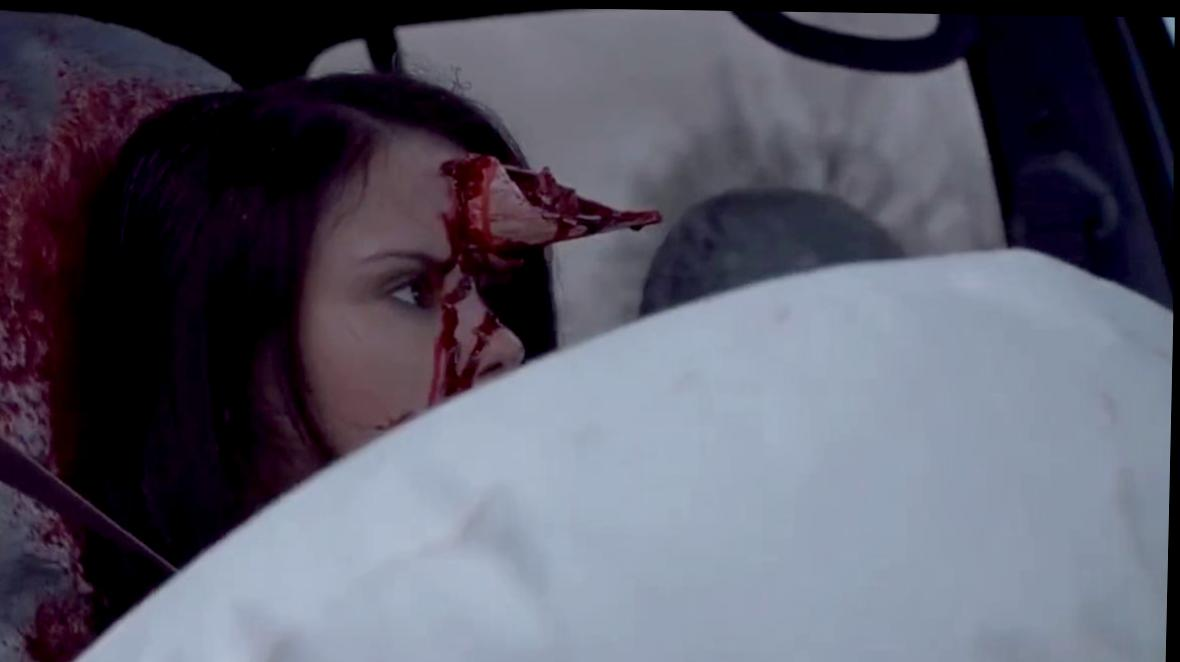Fire: (0, 10, 229, 662), (439, 153, 657, 394)
